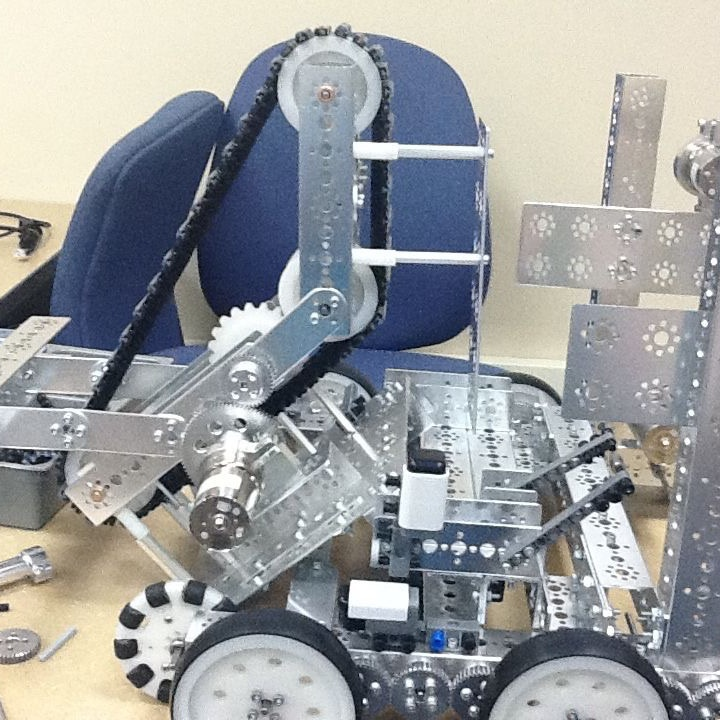robot: (61, 20, 720, 720)
